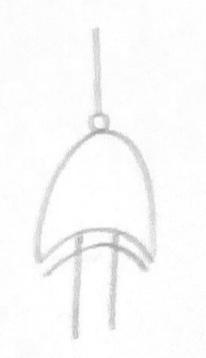XNOR: (21, 110, 178, 276)
